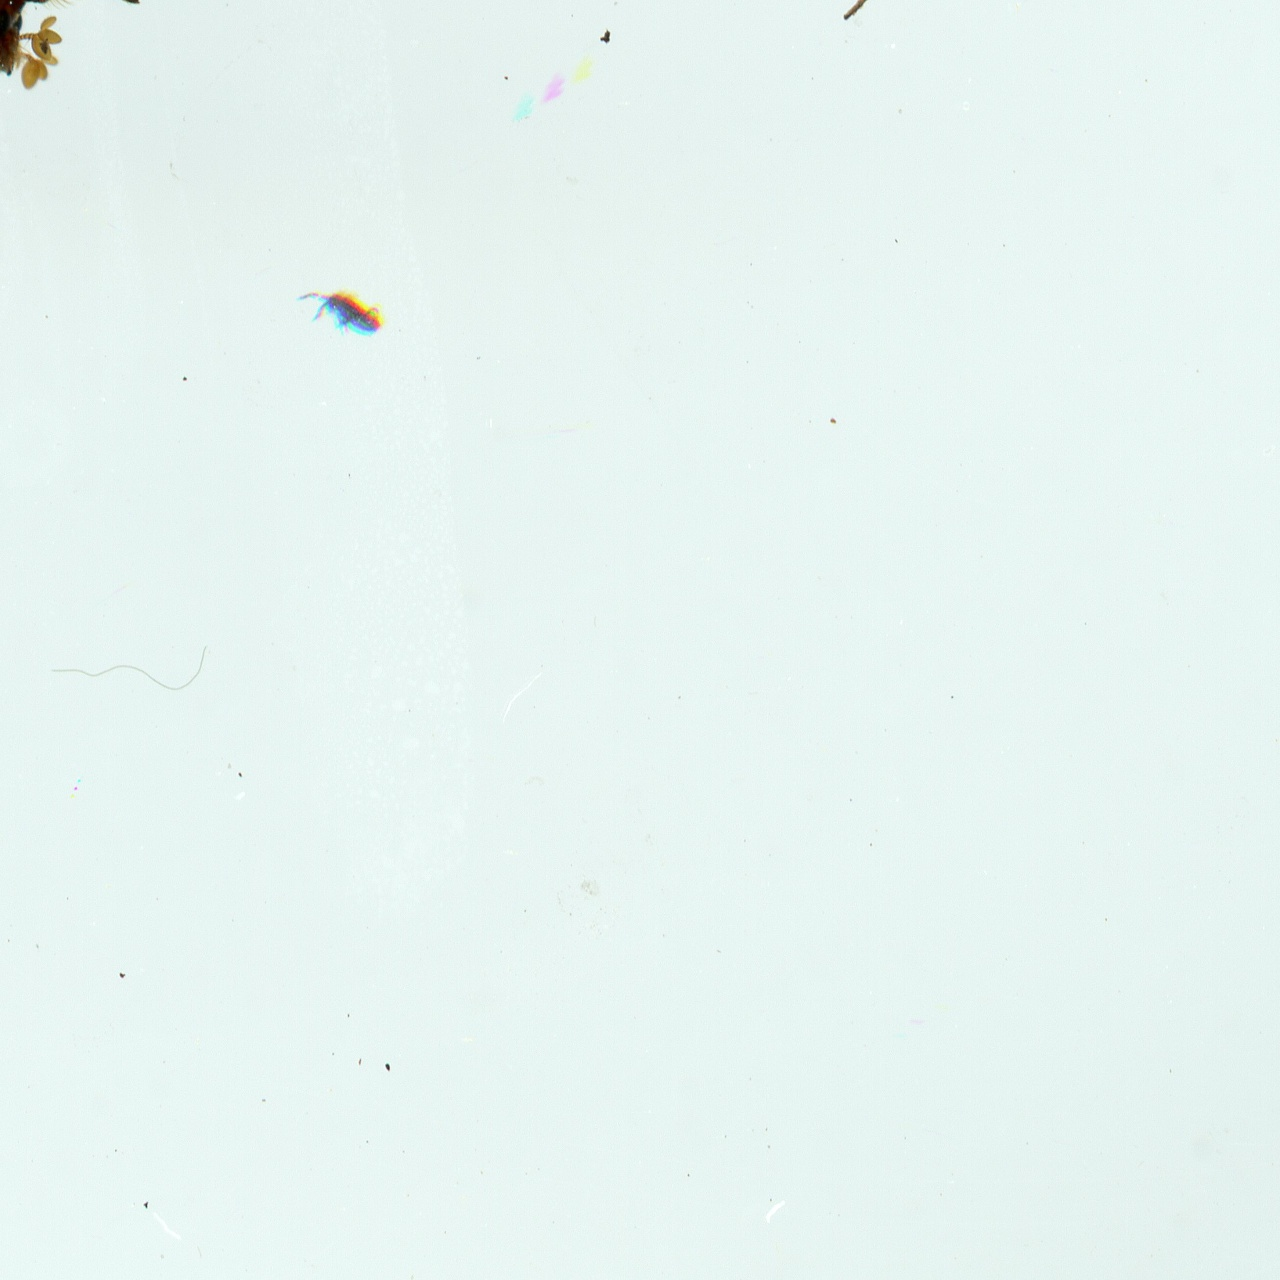arthropod: (0, 0, 348, 125), (294, 283, 403, 340)
